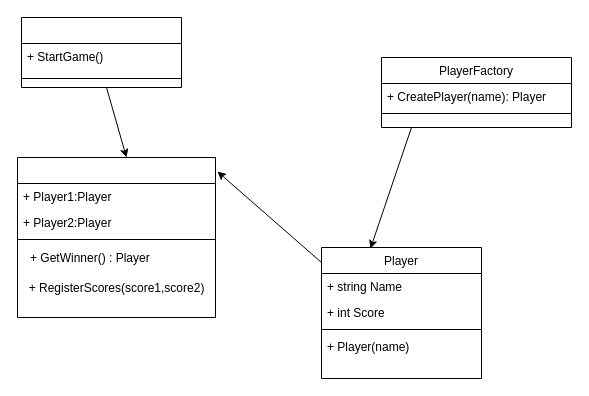
Image size: 589x396. Some labels were removed from this diagram. Each missing label, with the box of its shape:
GameManager: (20, 16, 182, 88)
Match: (16, 156, 216, 318)
